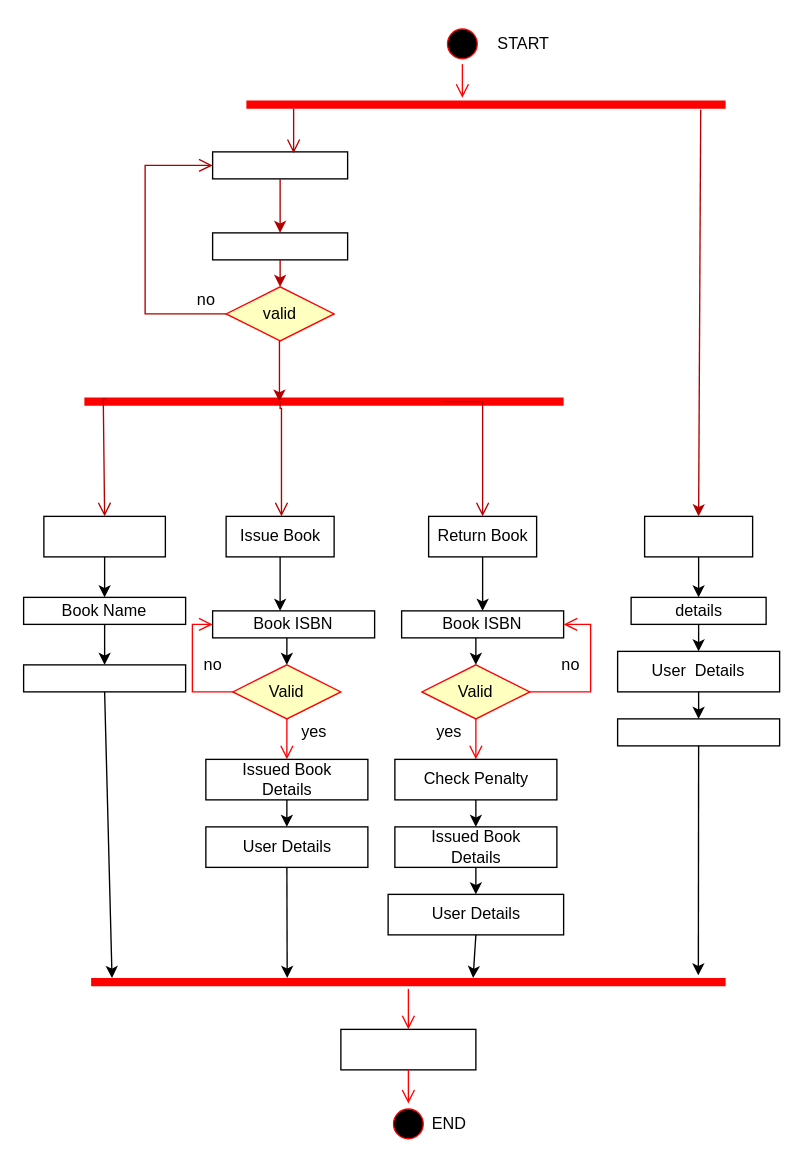
Some shapes in this 803 by 1168 pixel diagram are drawn without their labels. The centre of each missing label's shape, as x and y in pixels:
"Authenticate" belongs at pixel 279 246.
"Book Details" belongs at pixel 104 678.
"Log Out" belongs at pixel 408 1049.
"Login" belongs at pixel 279 165.
"Login details" belongs at pixel 698 732.
"New User" belongs at pixel 698 536.
"Search Book" belongs at pixel 104 536.
